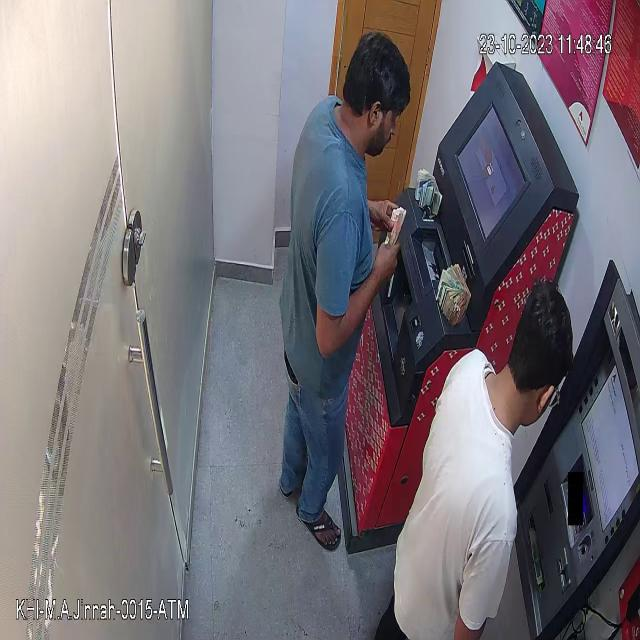note: (432, 253, 472, 325), (414, 166, 442, 210), (385, 200, 408, 253), (529, 523, 547, 589)
